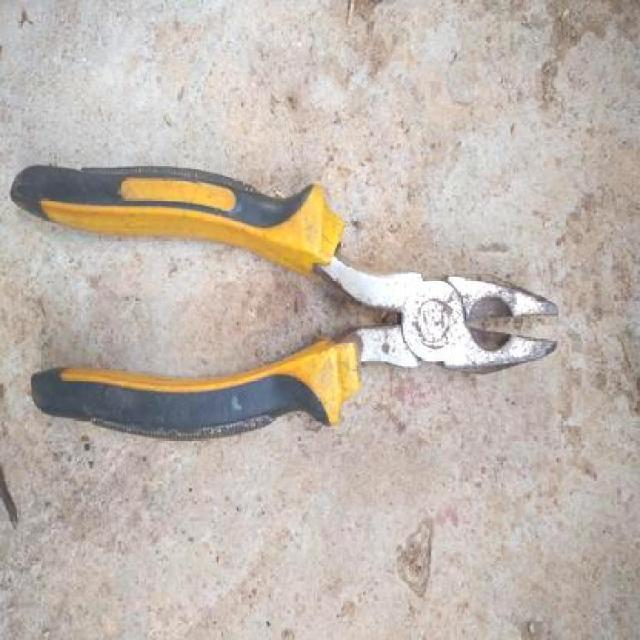pliers: (6, 160, 556, 434)
